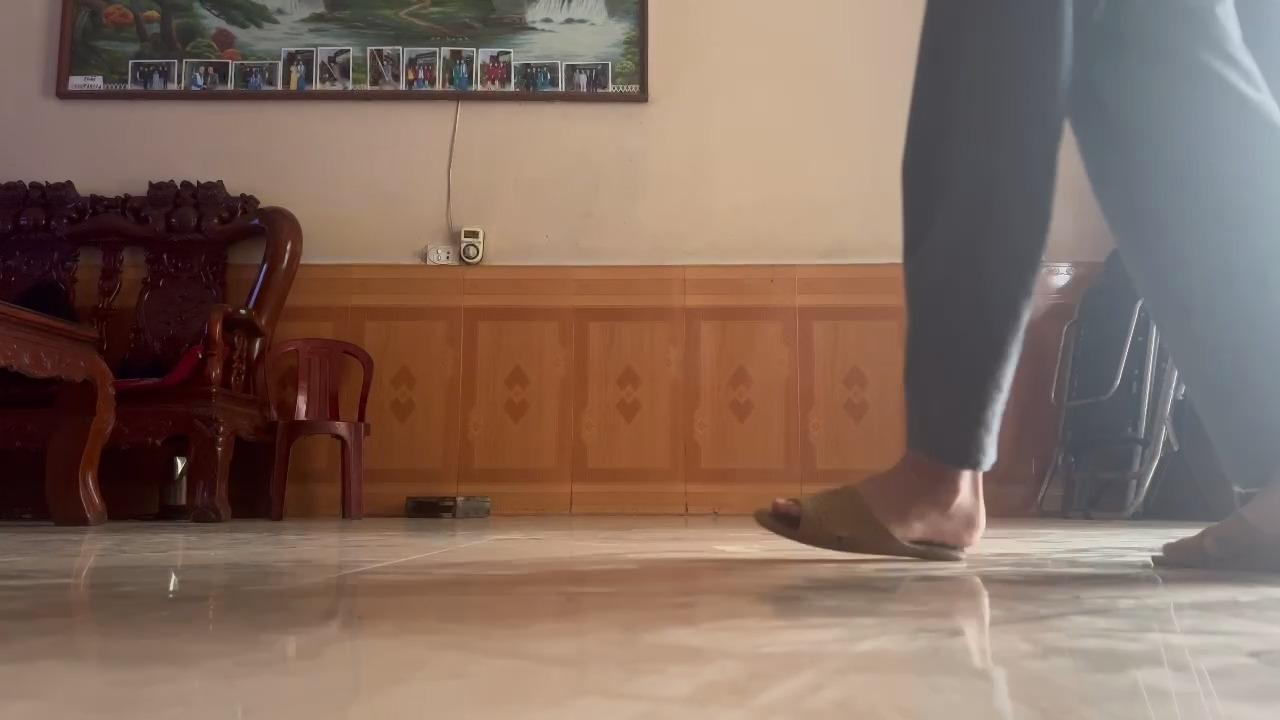no-boot: (746, 476, 994, 568), (1141, 516, 1280, 575)
